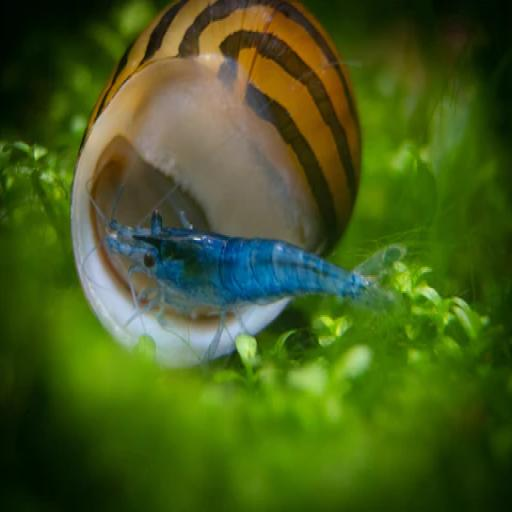Shrimp: (103, 211, 410, 342)
Snail: (63, 0, 351, 379)
